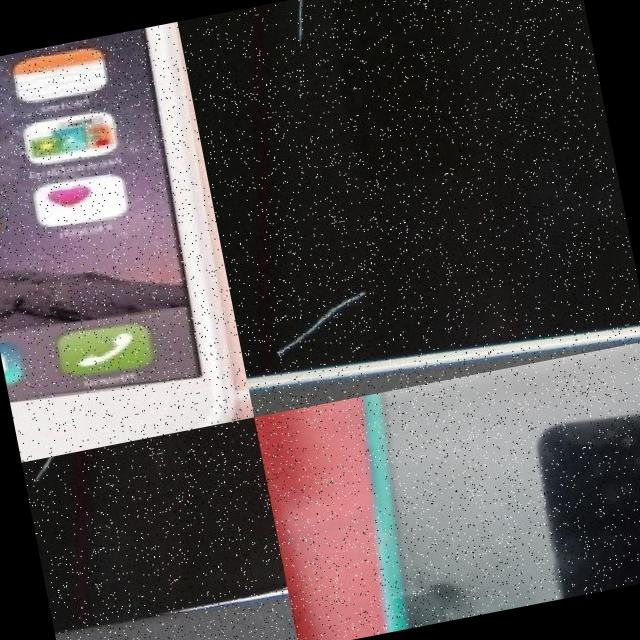scratch: (270, 294, 379, 371), (27, 444, 126, 510), (291, 0, 341, 55)
